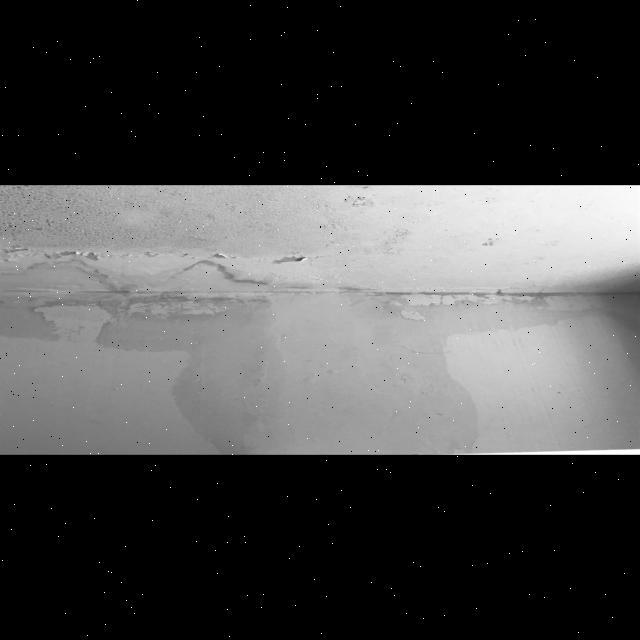stain marks: (0, 288, 639, 449), (0, 186, 450, 289), (474, 224, 571, 276)
